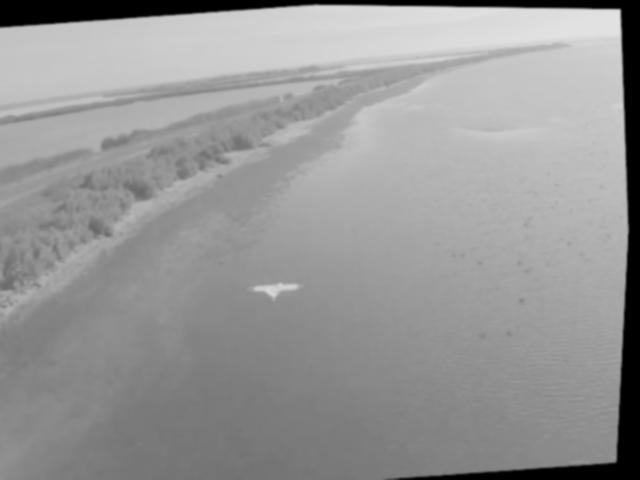hedef: (239, 269, 317, 314)
